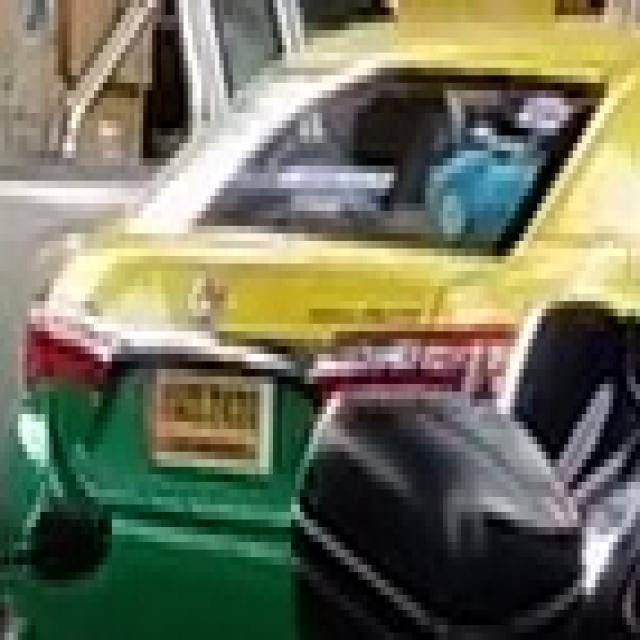door: (0, 0, 635, 632)
helmet: (286, 384, 582, 632)
